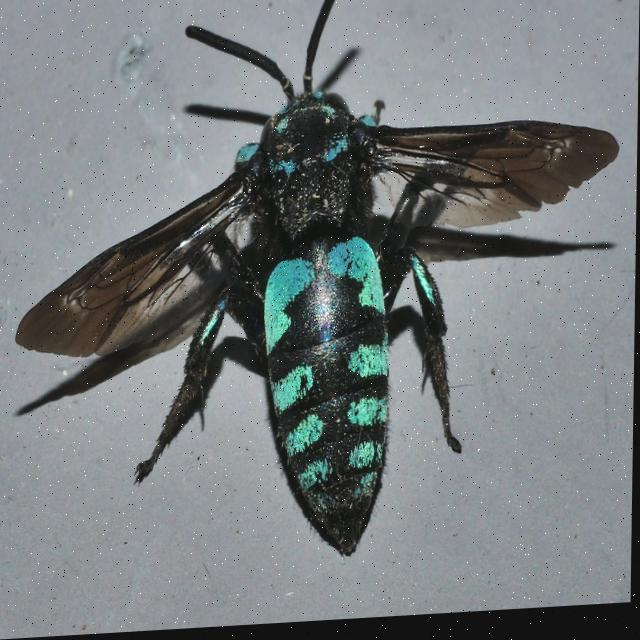Thyreus: (11, 0, 624, 610)
